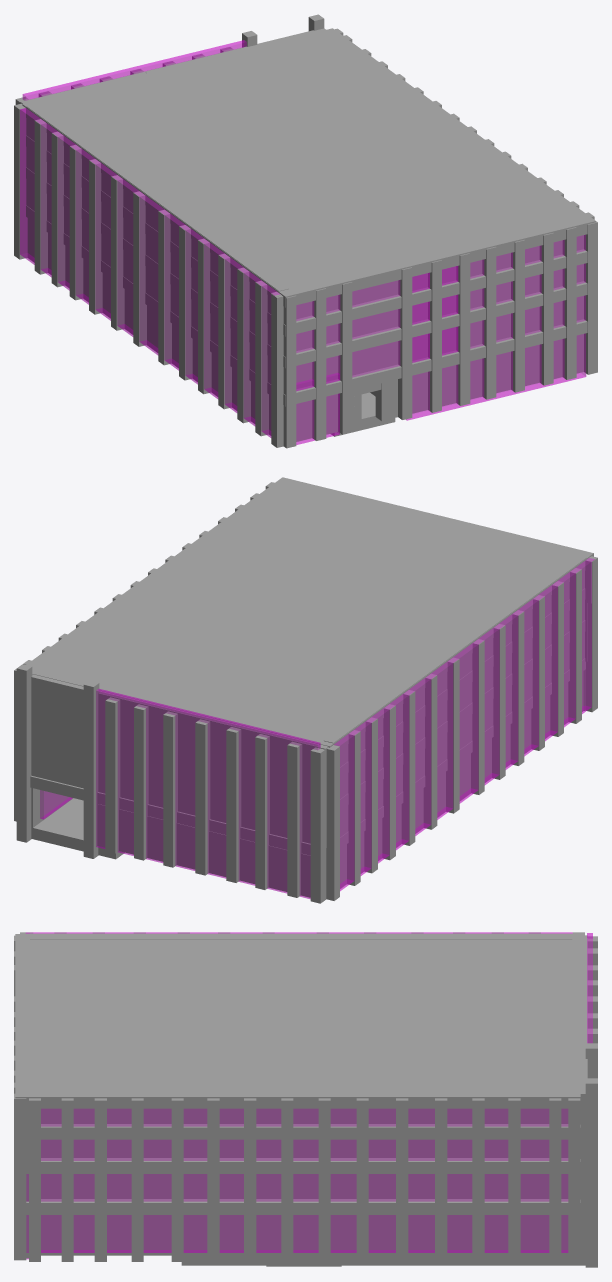
Rendered from building in.fbx.
3 renders of one model, top to bottom at view 1: azimuth 30°, elevation 25°; view 2: azimuth 150°, elevation 25°; view 3: azimuth 270°, elevation 25°, orthographic. The views are drawn at different scales.
Visible parts, largest first — view 1: pCube247; view 2: pCube247; view 3: pCube247.
Part boxes in pixels (bbox=[...]): pCube247: bbox=[14, 14, 597, 448]; pCube247: bbox=[14, 477, 597, 903]; pCube247: bbox=[14, 932, 597, 1267].
Size of the model in its own units: 32.61 by 16.63 by 47.75.
